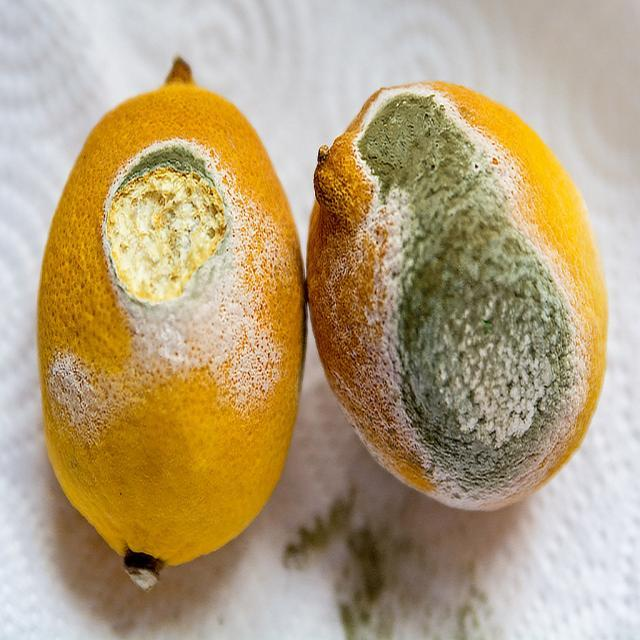Rotten: (34, 58, 310, 591), (309, 79, 606, 513)
